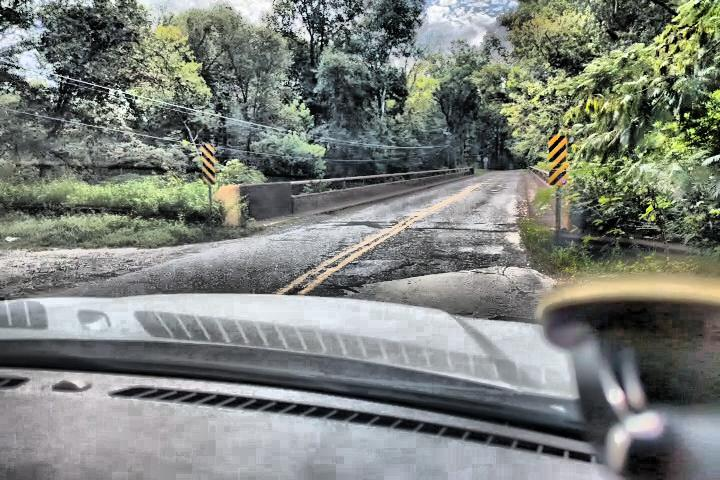pothole: (341, 216, 389, 234), (335, 284, 365, 297)
